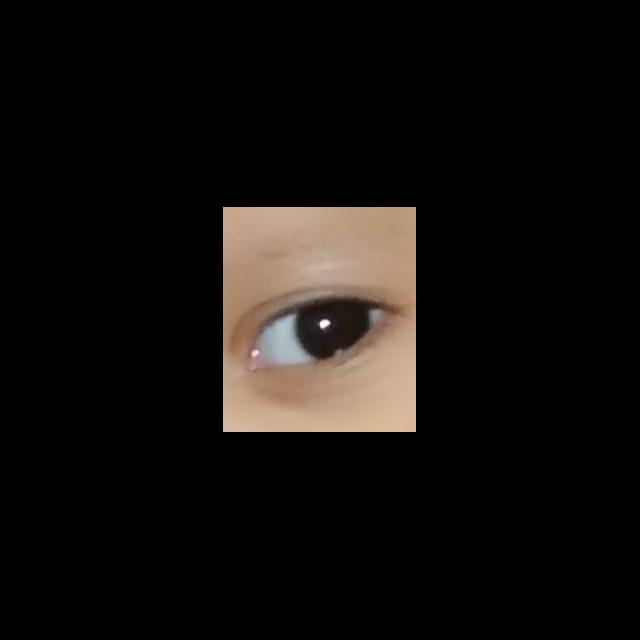eye: (255, 304, 381, 366)
iris: (297, 305, 370, 361)
